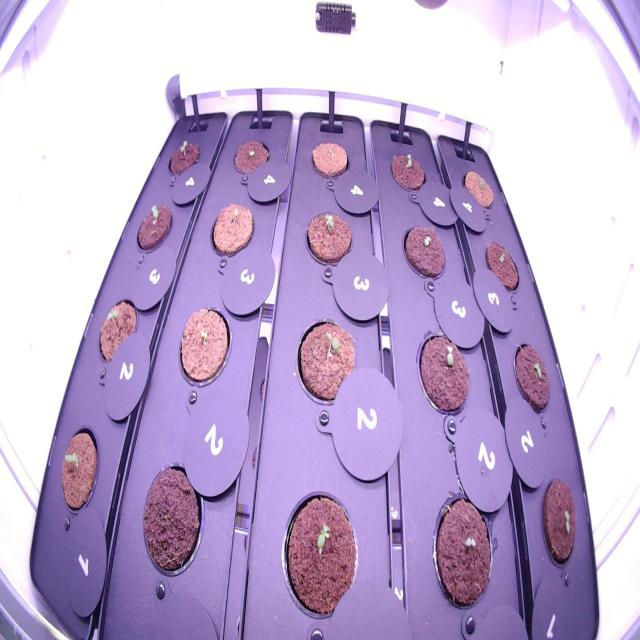germination: (274, 480, 364, 627), (426, 485, 498, 620), (292, 313, 361, 417), (413, 320, 474, 424), (174, 295, 235, 398), (55, 415, 103, 523), (537, 466, 581, 577), (206, 189, 259, 270), (508, 336, 555, 423), (302, 202, 356, 275), (95, 287, 140, 374), (398, 216, 450, 290), (478, 234, 524, 302), (130, 196, 176, 264), (385, 143, 429, 203), (162, 128, 205, 189), (228, 131, 274, 186)
pod: (136, 456, 210, 590), (456, 160, 499, 220), (306, 136, 352, 186)
